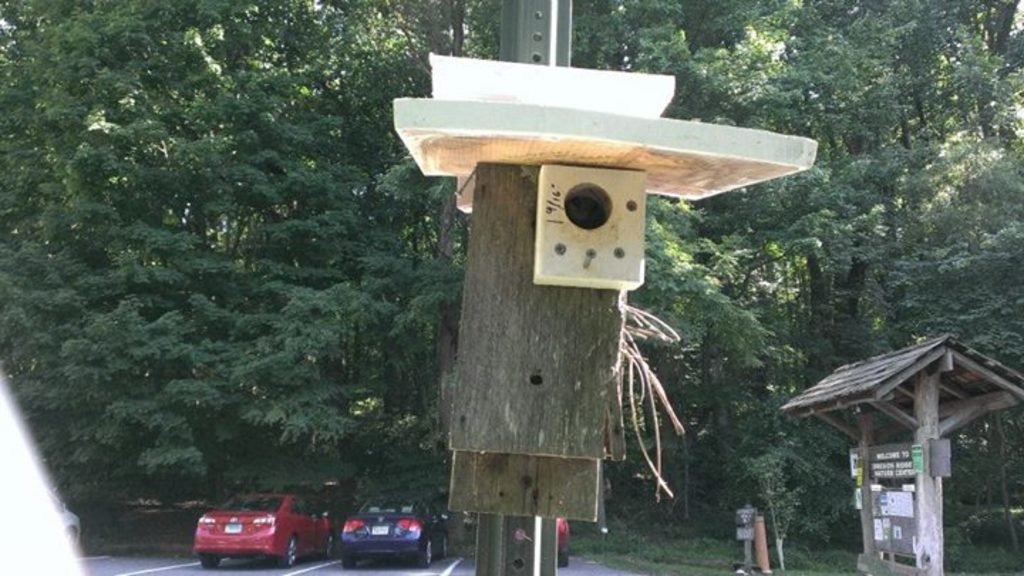Car: (194, 494, 334, 573), (320, 504, 428, 566)
